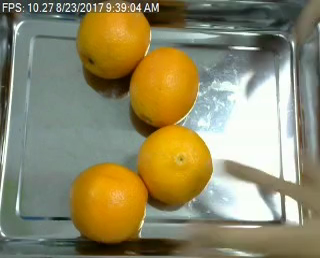Orange: (68, 163, 148, 243), (136, 126, 214, 206), (75, 1, 150, 79), (129, 46, 199, 125)
